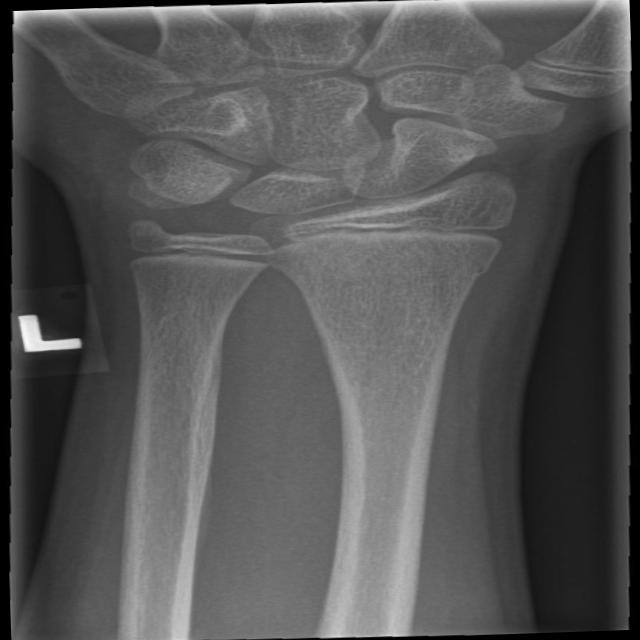fracture: (258, 202, 528, 266), (109, 220, 282, 288)
